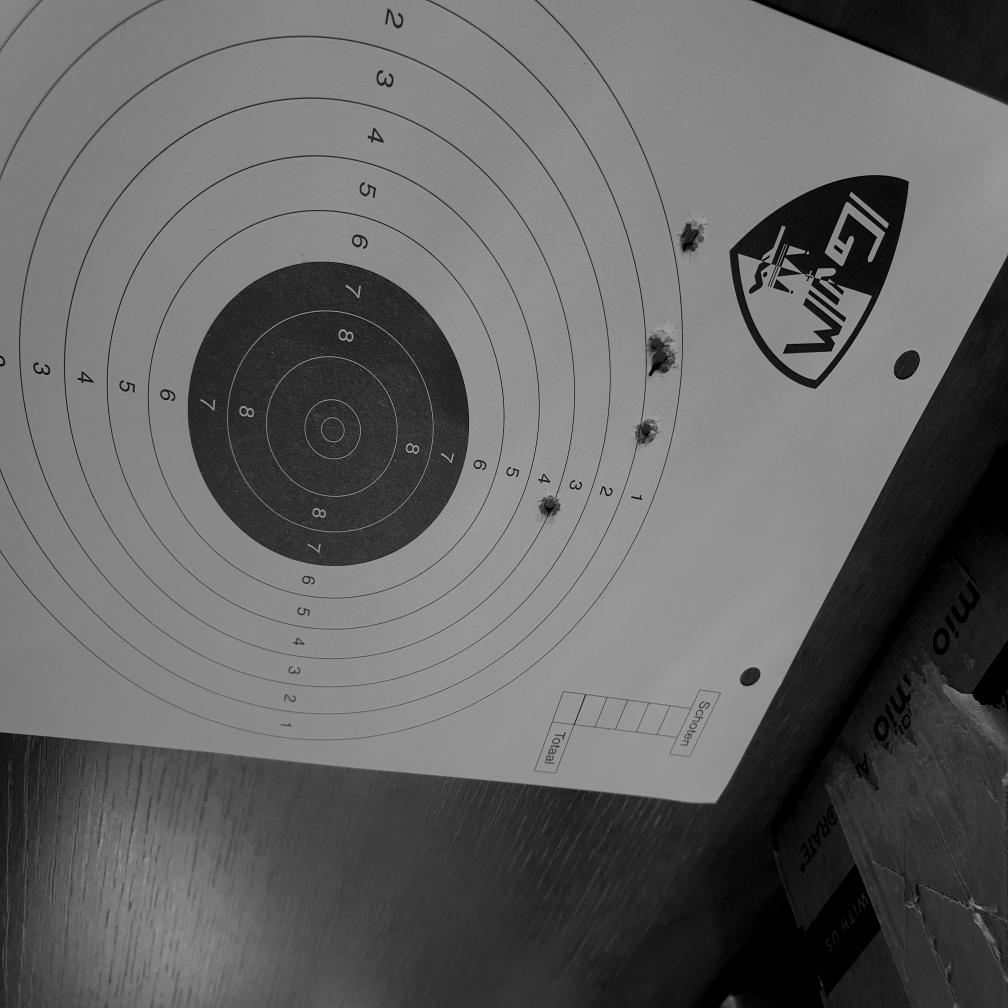0: (678, 219, 704, 256)
1: (645, 330, 674, 354), (647, 356, 674, 375)
2: (635, 419, 662, 450)
4: (538, 492, 564, 526)
Target: (0, 0, 686, 743)
black_contour: (187, 259, 470, 567)
